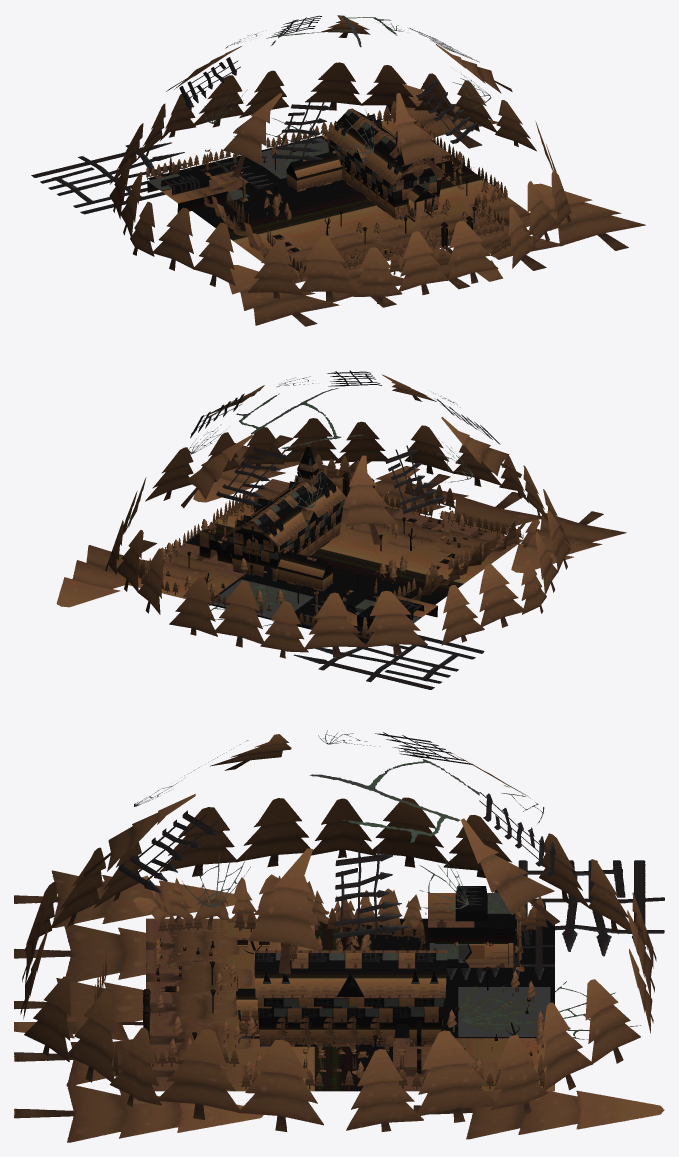
The model's file is Combined_Mesh_root_scene__14_f2bde634__churchyard_diffuse_04_89267037_c1f257.obj.
The picture shows the model from 3 angles, top to bottom: view 1: azimuth 30°, elevation 25°; view 2: azimuth 150°, elevation 25°; view 3: azimuth 270°, elevation 25°; orthographic projection. The views are drawn at different scales.
Bounding box in the file's own units: 139 × 56.25 × 132.
Materials: 190 (190 with a texture image).
